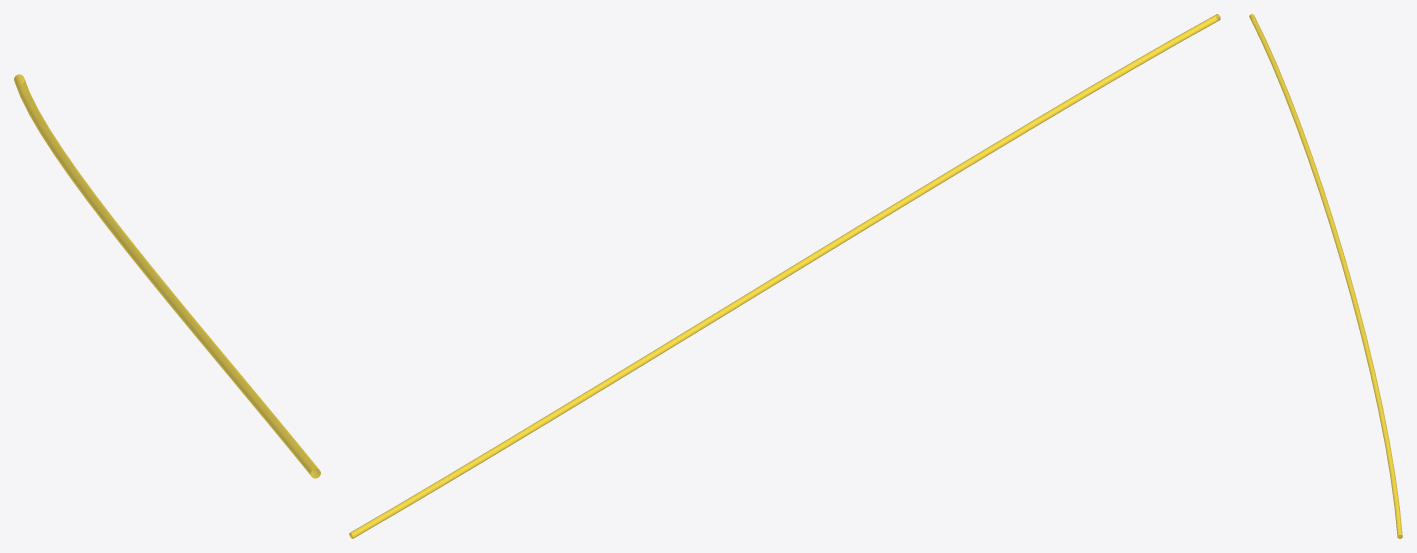
The model's file is Event_402970704_track_0.fbx.
The picture shows the model from 3 angles, left to right: view 1: azimuth 90°, elevation 25°; view 2: azimuth 210°, elevation 25°; view 3: azimuth 270°, elevation 25°; orthographic projection. The views are drawn at different scales.
Parts seen in each view (by area): view 1: Model; view 2: Model; view 3: Model.
Part boxes in pixels (x1,y1,x2,y2): Model: (14,74,320,478); Model: (349,14,1220,538); Model: (1249,14,1402,538).
Bounding box in the file's own units: 6.41 × 1.38 × 1.16.
